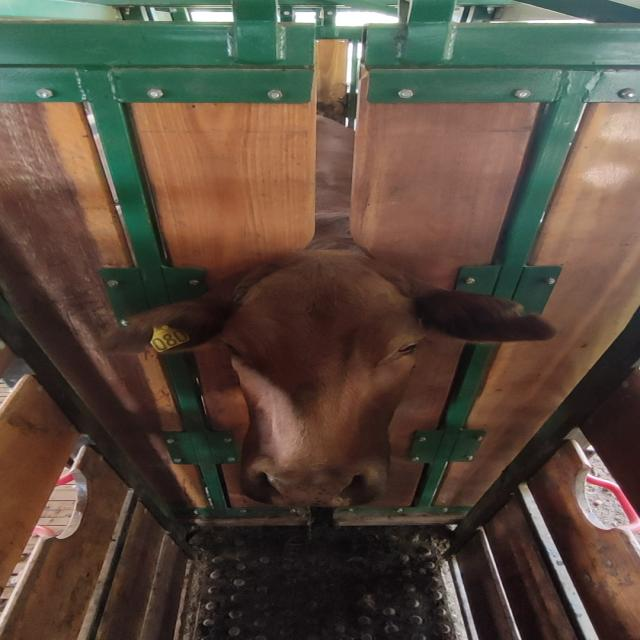cowFace: (215, 254, 422, 510)
